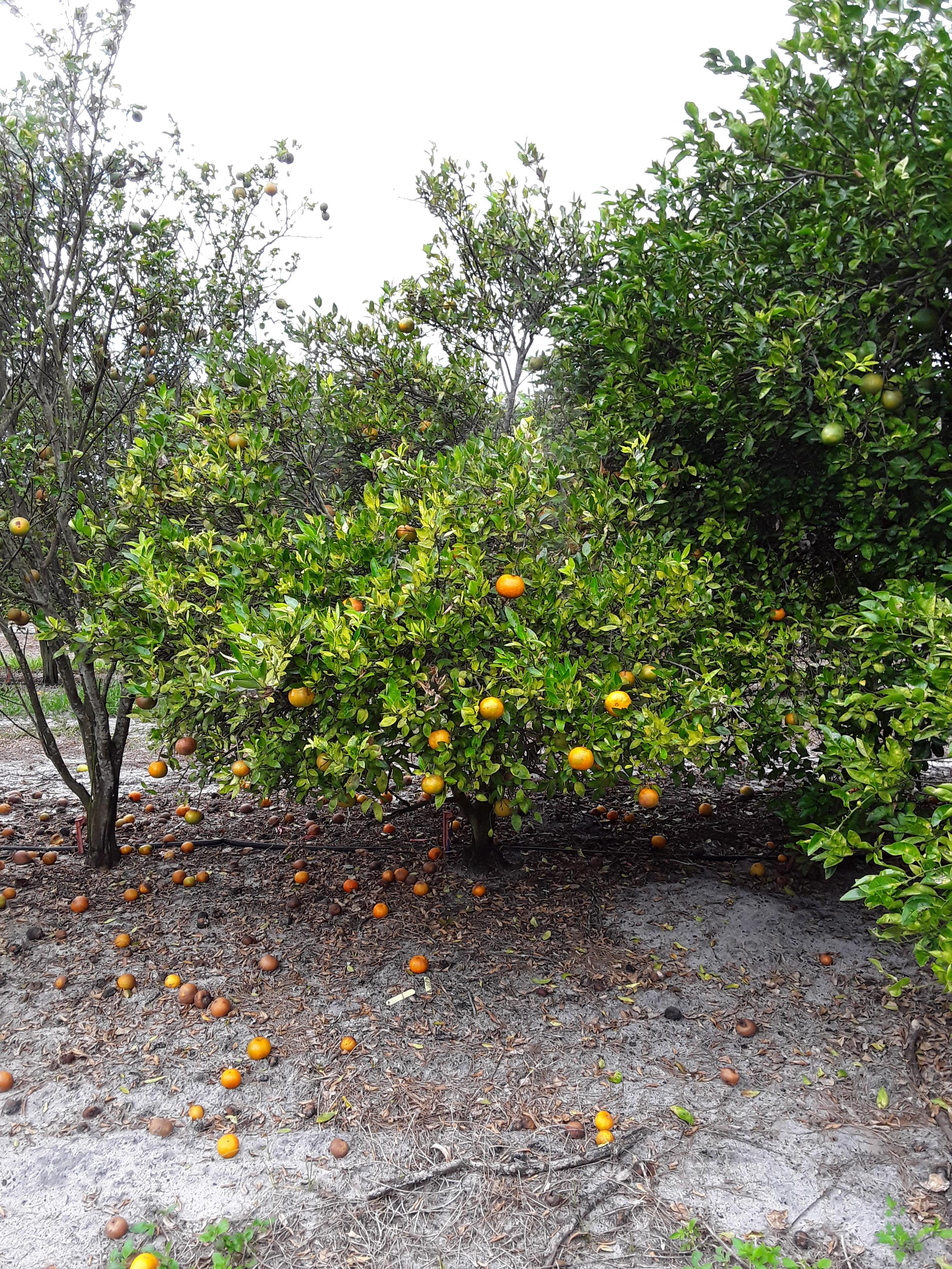fruit_on_ground: (908, 305, 940, 333), (566, 745, 596, 773), (477, 694, 506, 722), (605, 689, 633, 717), (494, 573, 524, 597), (286, 687, 319, 708), (635, 785, 661, 811), (819, 421, 845, 446), (425, 728, 454, 750), (861, 371, 886, 396), (7, 512, 31, 538), (879, 390, 905, 411), (420, 774, 444, 796), (316, 750, 337, 773), (492, 799, 514, 819), (174, 737, 197, 756), (229, 760, 252, 778), (341, 596, 365, 613), (227, 432, 249, 450), (135, 692, 158, 709), (640, 664, 659, 684), (149, 759, 170, 777), (337, 791, 358, 809), (12, 609, 33, 627), (617, 669, 636, 688), (766, 605, 786, 623), (107, 172, 128, 189), (395, 524, 415, 541), (191, 407, 209, 423), (322, 502, 341, 517), (231, 185, 248, 201), (397, 317, 414, 333), (24, 567, 40, 584), (416, 419, 435, 433), (527, 357, 546, 371), (784, 710, 800, 726), (127, 220, 143, 236), (150, 484, 168, 498), (362, 428, 379, 442), (7, 605, 21, 622), (138, 323, 156, 336), (39, 443, 54, 458), (80, 378, 95, 393), (36, 487, 50, 502), (130, 110, 145, 124), (441, 299, 458, 311), (139, 345, 154, 358), (144, 373, 159, 386), (688, 547, 704, 559), (265, 182, 277, 196), (48, 455, 60, 468), (276, 297, 288, 309), (373, 368, 384, 381), (95, 401, 105, 415), (277, 149, 287, 163), (234, 172, 248, 182), (286, 152, 296, 164), (111, 372, 122, 381), (98, 333, 106, 345), (320, 203, 329, 212), (140, 210, 150, 218), (322, 212, 331, 220)
fruit_on_tree: (245, 1035, 273, 1061), (102, 1215, 130, 1240), (216, 1132, 239, 1159), (147, 1117, 175, 1137), (129, 1253, 162, 1269), (733, 1017, 758, 1038), (220, 1067, 243, 1089), (207, 997, 232, 1017), (719, 1065, 741, 1087), (407, 953, 430, 974), (191, 989, 214, 1010), (177, 983, 199, 1004), (329, 1138, 350, 1159), (563, 1119, 585, 1139), (593, 1109, 614, 1129), (0, 1069, 17, 1092), (69, 894, 88, 913), (116, 973, 136, 991), (259, 954, 278, 972), (339, 1035, 357, 1054), (187, 1103, 205, 1122), (412, 879, 430, 897), (595, 1131, 613, 1149), (372, 902, 390, 919), (113, 932, 131, 949), (341, 877, 360, 893), (750, 860, 766, 878), (26, 924, 44, 940), (378, 789, 395, 805), (42, 850, 59, 866), (520, 1114, 537, 1130), (13, 850, 31, 865), (135, 881, 153, 896), (470, 883, 488, 898), (47, 833, 66, 847), (240, 934, 260, 947), (698, 802, 714, 818), (193, 869, 210, 884), (285, 893, 302, 908), (164, 973, 181, 988), (664, 1006, 681, 1021), (184, 809, 202, 823), (649, 834, 667, 848), (420, 860, 438, 874), (293, 870, 311, 884), (5, 790, 24, 803), (425, 847, 442, 861), (392, 867, 409, 881), (123, 888, 140, 902), (448, 818, 464, 832), (307, 823, 323, 837), (171, 869, 187, 883), (53, 975, 70, 988), (159, 848, 177, 860), (589, 855, 604, 869), (327, 901, 342, 915), (740, 785, 756, 798), (382, 823, 398, 836), (291, 858, 308, 870), (180, 876, 197, 888), (819, 952, 833, 966), (1, 825, 16, 838), (181, 841, 196, 854), (267, 814, 283, 826), (5, 943, 22, 954), (400, 774, 413, 788), (127, 790, 142, 802), (118, 844, 133, 856), (138, 844, 153, 856), (160, 833, 177, 843), (259, 797, 273, 809), (381, 869, 395, 881), (404, 874, 418, 886), (53, 929, 68, 940), (75, 763, 91, 773), (317, 793, 331, 804), (240, 803, 254, 814), (764, 840, 778, 851), (2, 887, 16, 898), (775, 853, 790, 863), (357, 792, 370, 803), (175, 805, 188, 816), (606, 810, 619, 821), (199, 916, 210, 929), (0, 803, 11, 815), (333, 812, 345, 823), (624, 813, 635, 825), (368, 859, 380, 870), (776, 875, 787, 887), (307, 811, 320, 821), (284, 814, 297, 824), (377, 879, 390, 889), (196, 911, 210, 920), (144, 804, 156, 814), (31, 790, 44, 799), (159, 811, 172, 820), (123, 815, 136, 824), (115, 817, 126, 827), (595, 804, 607, 813), (28, 849, 37, 861), (0, 894, 7, 909), (39, 813, 50, 822), (140, 819, 152, 827), (158, 816, 168, 825), (60, 827, 70, 836), (775, 779, 786, 787), (56, 798, 68, 805), (304, 822, 316, 828), (0, 860, 5, 872)
